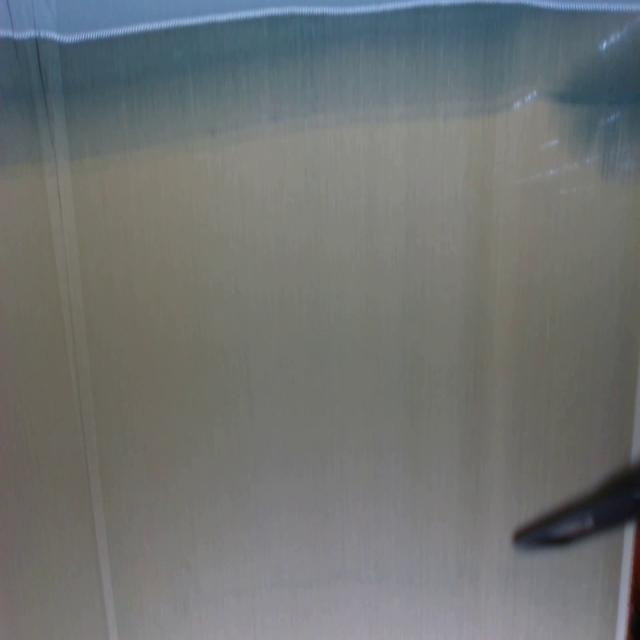color bleeding: (0, 45, 640, 189)
crease: (27, 0, 120, 638), (3, 0, 25, 68)
